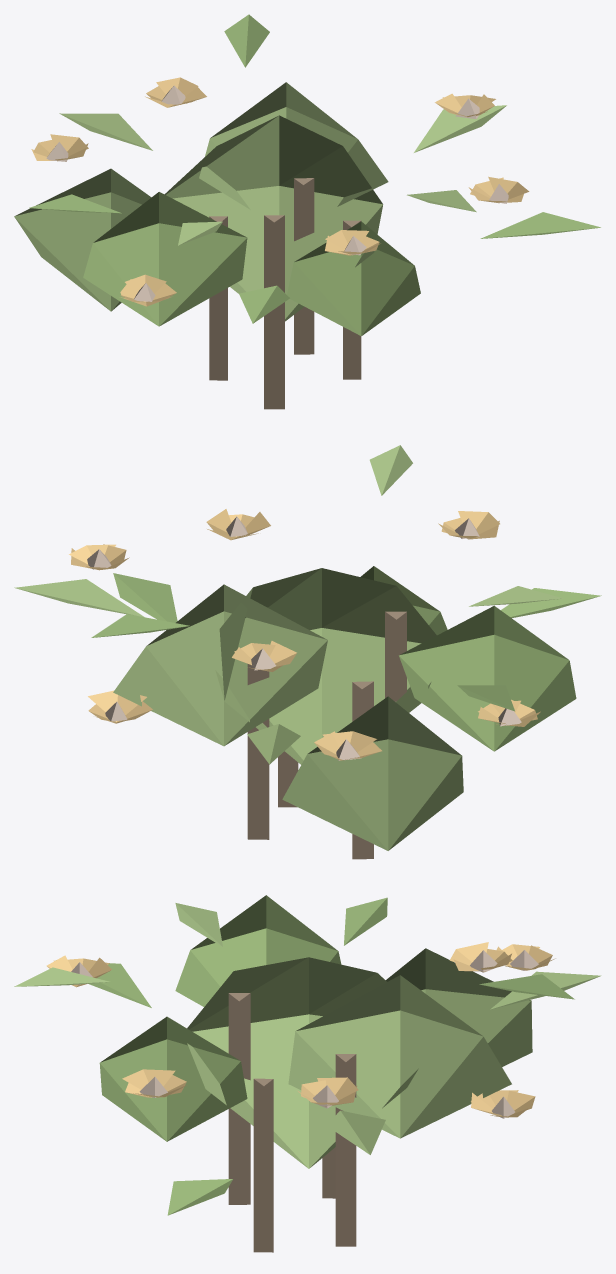
File: guan.lianqiao@flowering__bloom.glb
3 views of the same model, one above another, from view 1: azimuth 30°, elevation 25°; view 2: azimuth 150°, elevation 25°; view 3: azimuth 270°, elevation 25° (orthographic). The views are drawn at different scales.
Visible parts, largest first — view 1: guan.lianqiao@flowering__bloom; view 2: guan.lianqiao@flowering__bloom; view 3: guan.lianqiao@flowering__bloom.
Part boxes in pixels (x1,y1,x2,y2): guan.lianqiao@flowering__bloom: [14, 14, 600, 409]; guan.lianqiao@flowering__bloom: [14, 445, 601, 859]; guan.lianqiao@flowering__bloom: [14, 895, 601, 1252].
Bounding box in the file's own units: 3.08 × 1.6 × 3.03.
